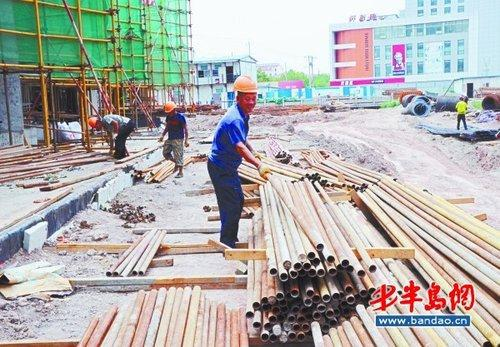helmet: (230, 69, 259, 115), (161, 102, 180, 121), (86, 114, 105, 131)
